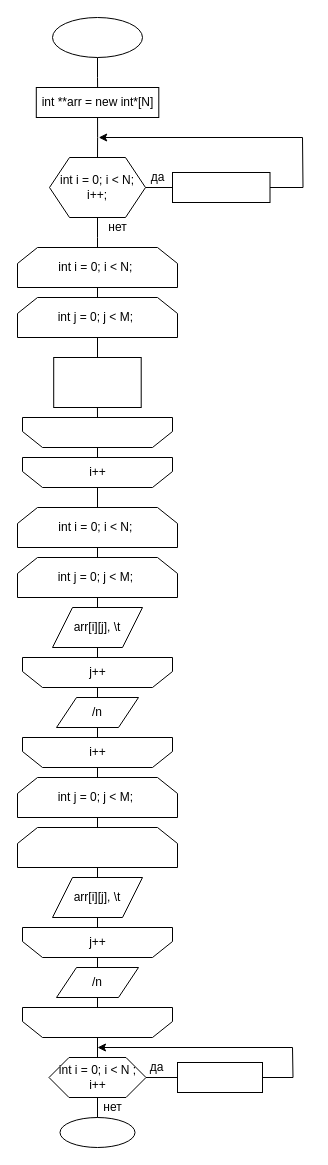
Image size: 328x1165. Some labels were removed from this diagram. The box of each missing label's shape, as (x1, y1, x2, y2) in pixels:
arr[i] = new int [M]: (172, 172, 270, 202)
delete [] arr[i];: (176, 1062, 262, 1092)
fallout 4 meditation ; j++;: (53, 356, 141, 408)
i--: (22, 1006, 172, 1038)
int i = N-1; i >= 0;: (16, 826, 178, 868)
конец: (59, 1116, 135, 1148)
начало: (52, 16, 142, 58)
